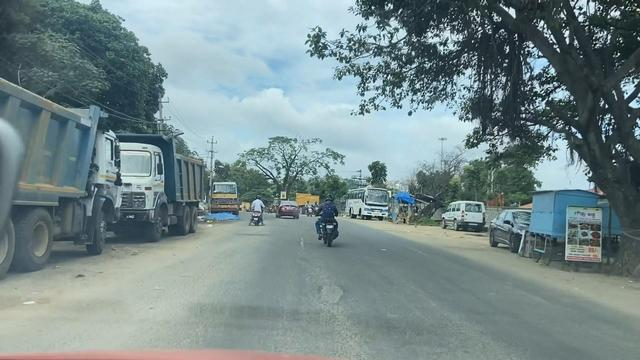HMV: (0, 76, 144, 297), (118, 127, 209, 244), (341, 179, 389, 223), (206, 169, 242, 219)
LMV: (314, 169, 363, 264), (437, 174, 492, 241), (236, 181, 266, 231), (272, 183, 308, 220)
RoadDamages: (313, 270, 350, 312), (287, 222, 311, 250)
